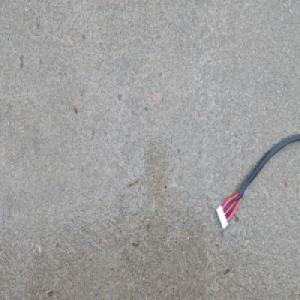Wire: (214, 131, 299, 230)
